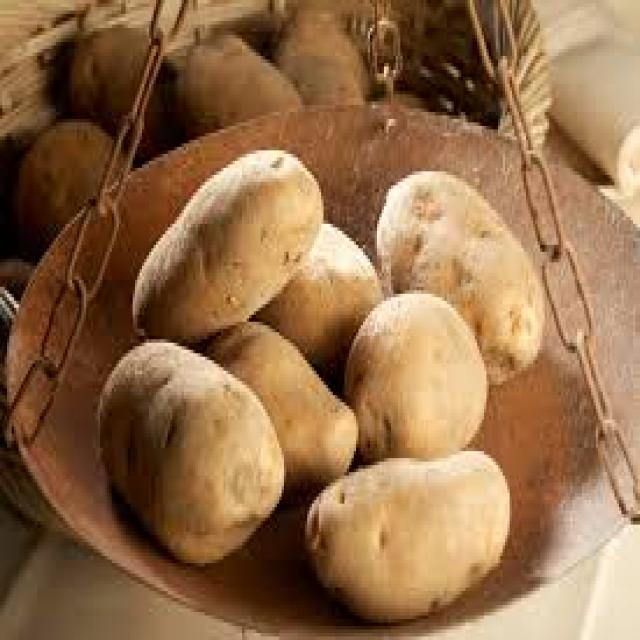Potato: (92, 331, 292, 551), (132, 137, 328, 357), (343, 290, 496, 465)
